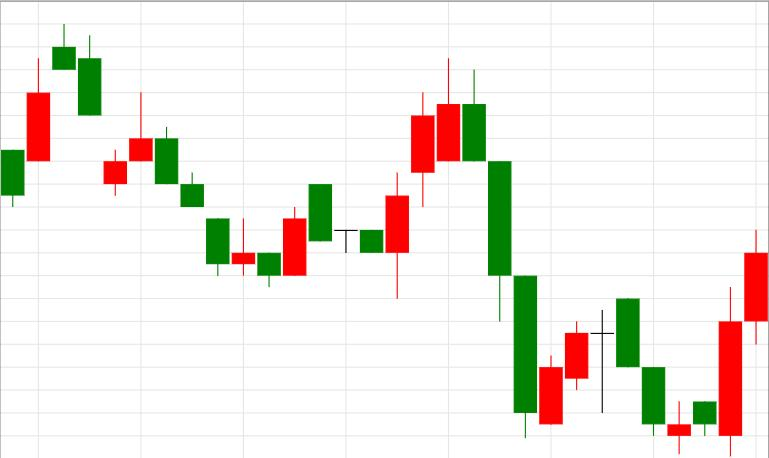three_black_crows_fall: (385, 58, 537, 438)
